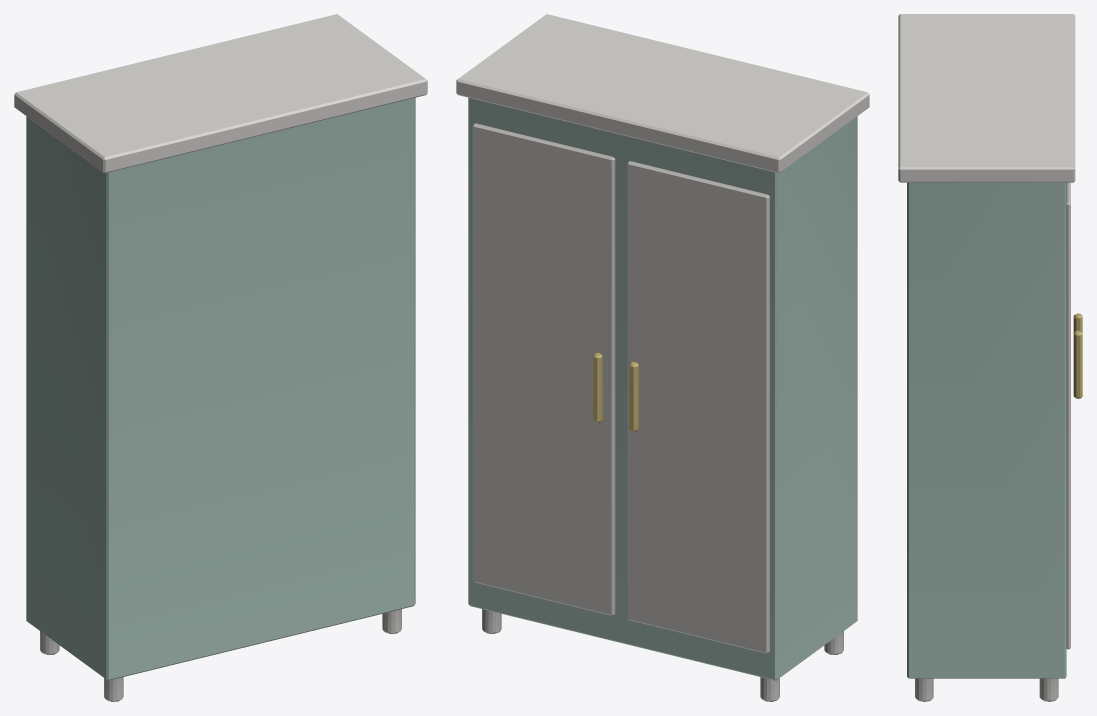
The model's file is furn_wardrobe__mint.glb.
3 renders of one model, left to right at view 1: azimuth 30°, elevation 25°; view 2: azimuth 150°, elevation 25°; view 3: azimuth 270°, elevation 25°, orthographic. The views are drawn at different scales.
Size of the model in its own units: 1.26 by 2.06 by 0.6354.
